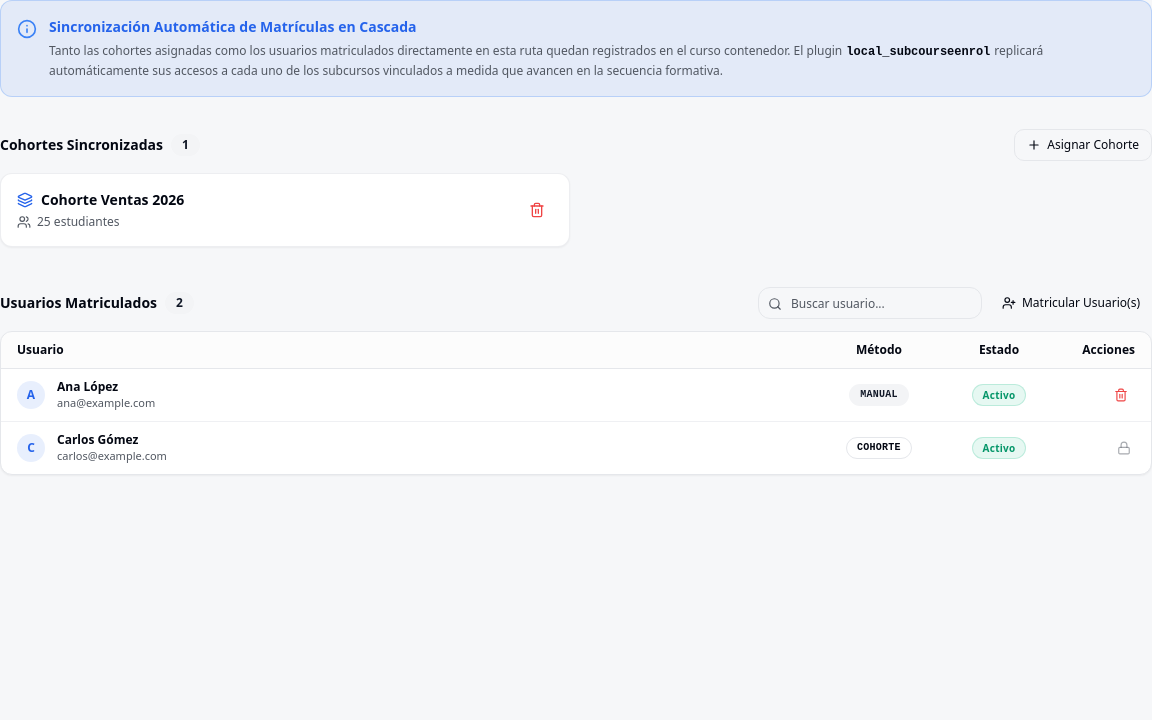
Learning Paths - Frontend Components › LearningPathEnrolTab - Gestión de Cohortes y Usuarios › muestra botón para matricular usuario(s) y modal de selección
Click the button "Matricular Usuario(s)" at (1071, 303), box 990,287 -> 1151,319
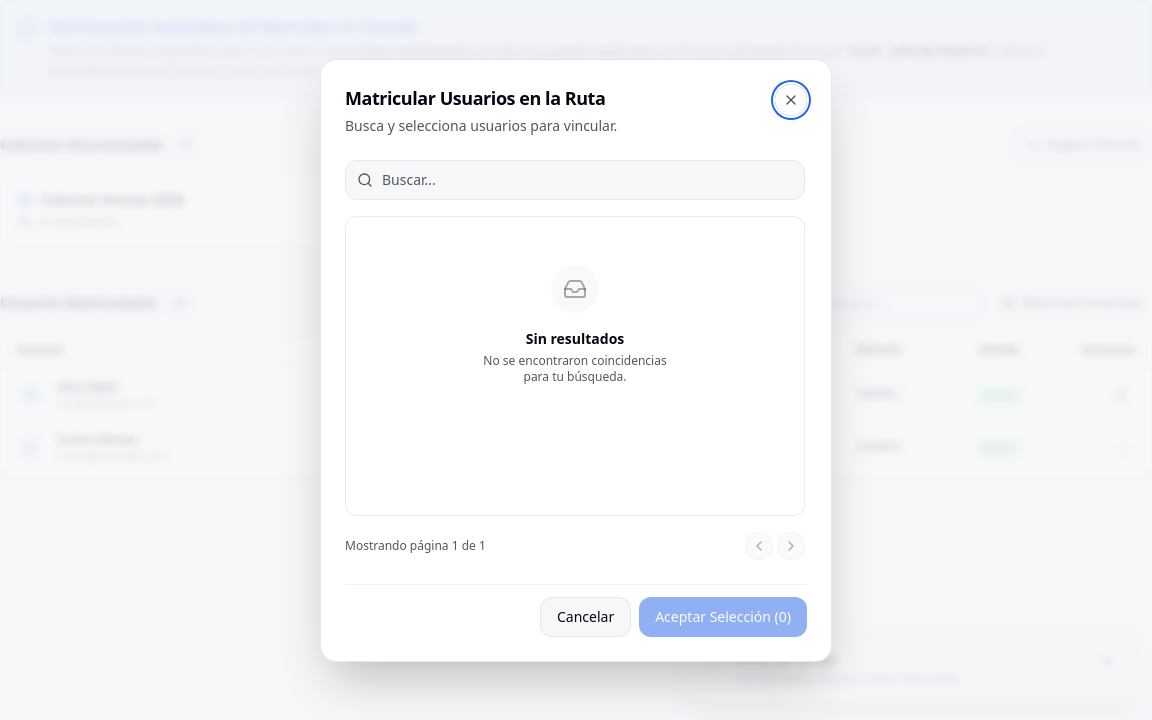
Expected: the heading "Matricular Usuarios en la Ruta" is shown, 345,84 -> 617,112
